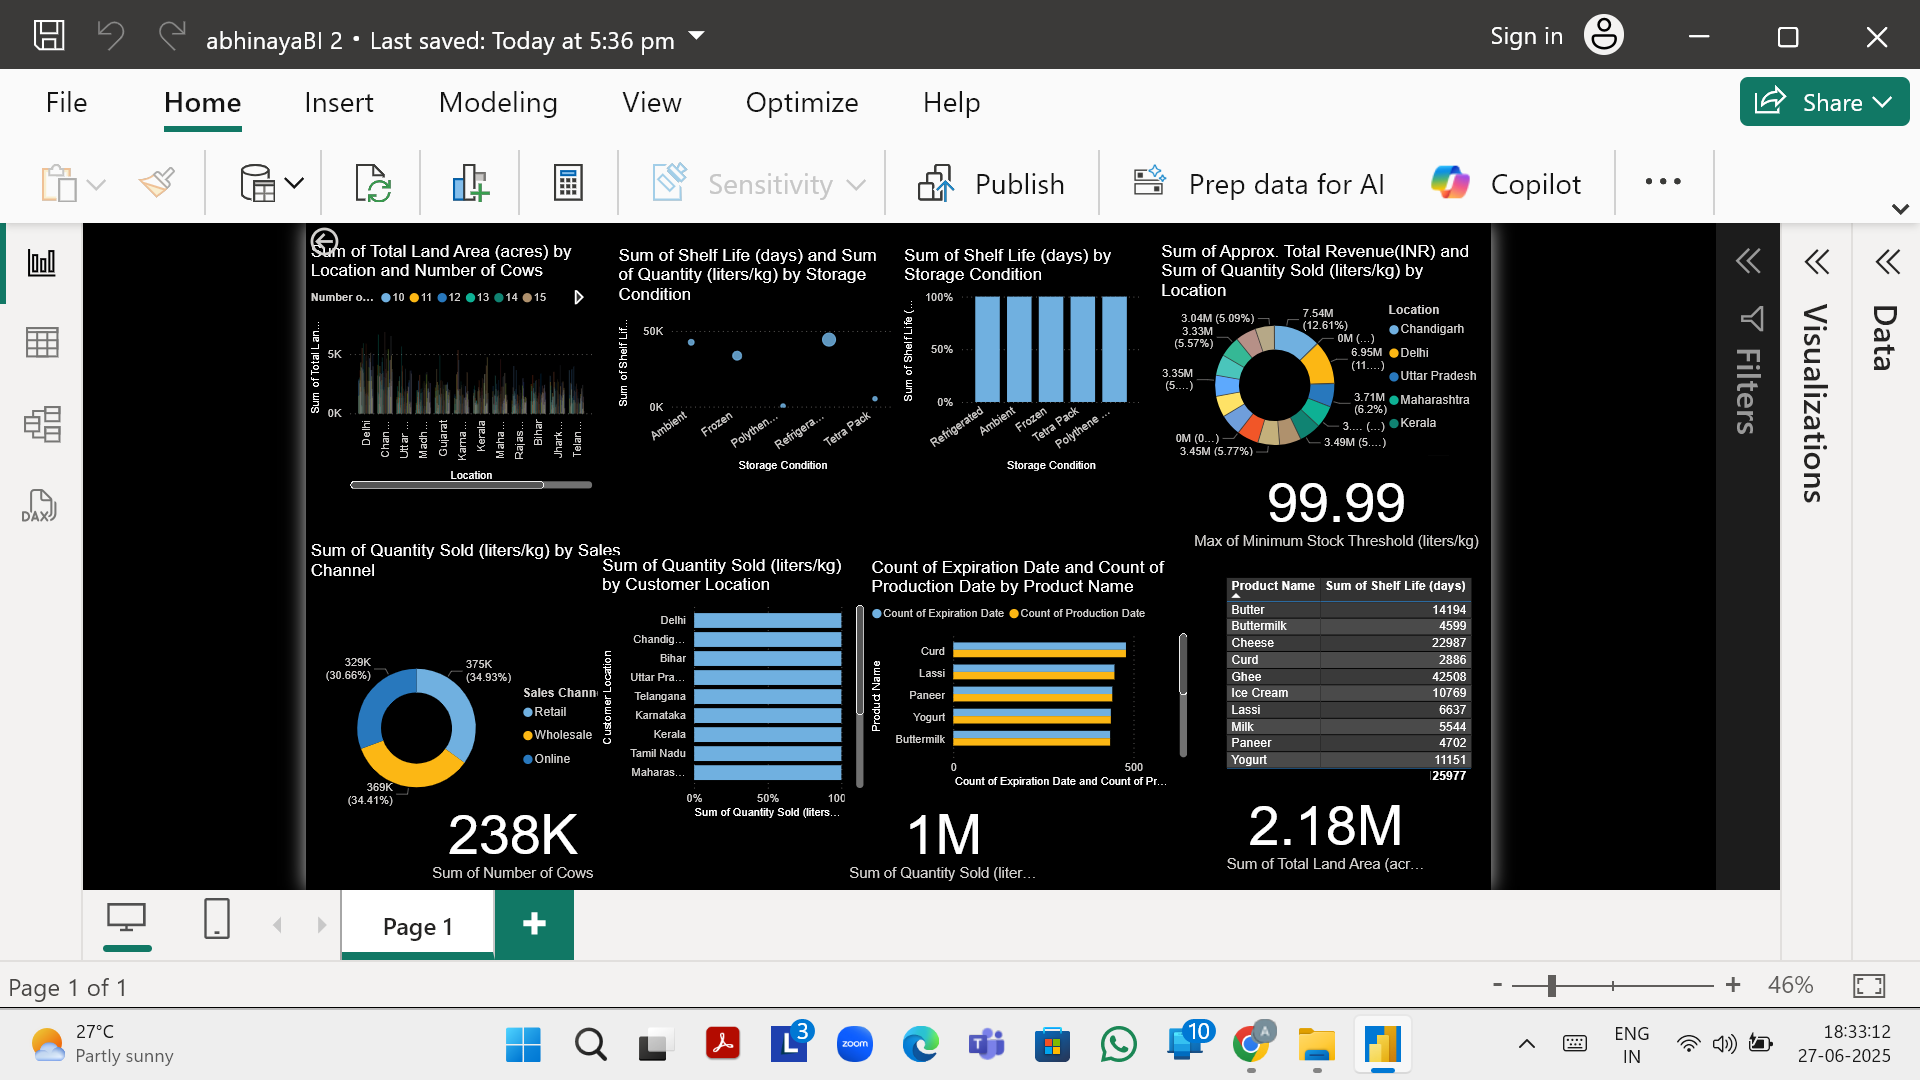

The page's visual inventory and layout, read from the dashboard file:
{"tool":"powerbi","page":{"name":"Page 1","canvas":[1280,720],"ordinal":0},"visuals":[{"type":"lineClusteredColumnComboChart","fields":{"Category":["dairy.Location"],"Series":["dairy.Number of Cows"],"Y":["dairy.Total Land Area (acres)"]},"box":[0,20.2,314.1,272.1],"z":0},{"type":"donutChart","fields":{"Category":["dairy.Brand","dairy.Product Name","dairy.Location"],"Y":["dairy.Approx. Total Revenue(INR)","dairy.Quantity Sold (liters/kg)"]},"box":[918.7,20.2,361.4,249.1],"z":1},{"type":"scatterChart","fields":{"X":["dairy.Storage Condition"],"Y":["dairy.Shelf Life (days)"],"Size":["dairy.Quantity (liters/kg)"]},"box":[332.6,23.5,307.4,248.6],"z":2},{"type":"donutChart","fields":{"Category":["dairy.Sales Channel"],"Y":["dairy.Quantity Sold (liters/kg)"]},"box":[0,344.4,347.7,362.8],"z":3},{"type":"hundredPercentStackedBarChart","fields":{"Category":["dairy.Customer Location"],"Y":["dairy.Quantity Sold (liters/kg)"]},"box":[314.1,359.5,292.3,288.9],"z":4},{"type":"clusteredBarChart","fields":{"Category":["dairy.Product Name"],"Y":["dairy.Expiration Date","dairy.Production Date"]},"box":[605.9,360.6,350.9,253.4],"z":5},{"type":"card","fields":{"Values":["dairy.Minimum Stock Threshold (liters/kg)"]},"box":[943.8,251.8,336.2,108.8],"z":6},{"type":"actionButton","box":[0,0,100,40],"z":7},{"type":"tableEx","fields":{"Values":["dairy.Product Name","dairy.Shelf Life (days)"]},"box":[989.3,377.3,290.9,252],"z":8},{"type":"hundredPercentStackedColumnChart","fields":{"Category":["dairy.Storage Condition"],"Y":["dairy.Shelf Life (days)"]},"box":[640,23.5,265.4,248.6],"z":9},{"type":"card","fields":{"Values":["dairy.Number of Cows"]},"box":[113.7,610.8,219.3,108.8],"z":10},{"type":"card","fields":{"Values":["dairy.Quantity Sold (liters/kg)"]},"box":[581.5,610.8,212.8,108.8],"z":11},{"type":"card","fields":{"Values":["dairy.Total Land Area (acres)"]},"box":[989.2,591.3,225.8,128.3],"z":12}]}

Visuals, with their boxes on the page's 1280x720 design canvas (x1, y1, x2, y2). These are canvas units, not pixel positions in the 1920x1080 screenshot, which may show the page scaled, cropped or inside an application window:
lineClusteredColumnComboChart - dairy.Location x dairy.Number of Cows: 0,20,314,292
donutChart - dairy.Brand x dairy.Product Name: 919,20,1280,269
scatterChart - dairy.Storage Condition x dairy.Shelf Life (days): 333,24,640,272
donutChart - dairy.Sales Channel x dairy.Quantity Sold (liters/kg): 0,344,348,707
hundredPercentStackedBarChart - dairy.Customer Location x dairy.Quantity Sold (liters/kg): 314,360,606,648
clusteredBarChart - dairy.Product Name x dairy.Expiration Date: 606,361,957,614
card - dairy.Minimum Stock Threshold (liters/kg): 944,252,1280,361
actionButton: 0,0,100,40
tableEx - dairy.Product Name x dairy.Shelf Life (days): 989,377,1280,629
hundredPercentStackedColumnChart - dairy.Storage Condition x dairy.Shelf Life (days): 640,24,905,272
card - dairy.Number of Cows: 114,611,333,720
card - dairy.Quantity Sold (liters/kg): 582,611,794,720
card - dairy.Total Land Area (acres): 989,591,1215,720
